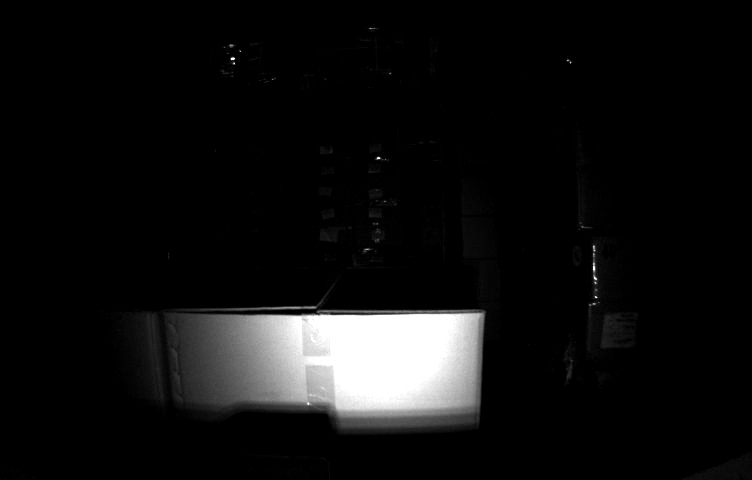True Barcode: (603, 311, 637, 345)
